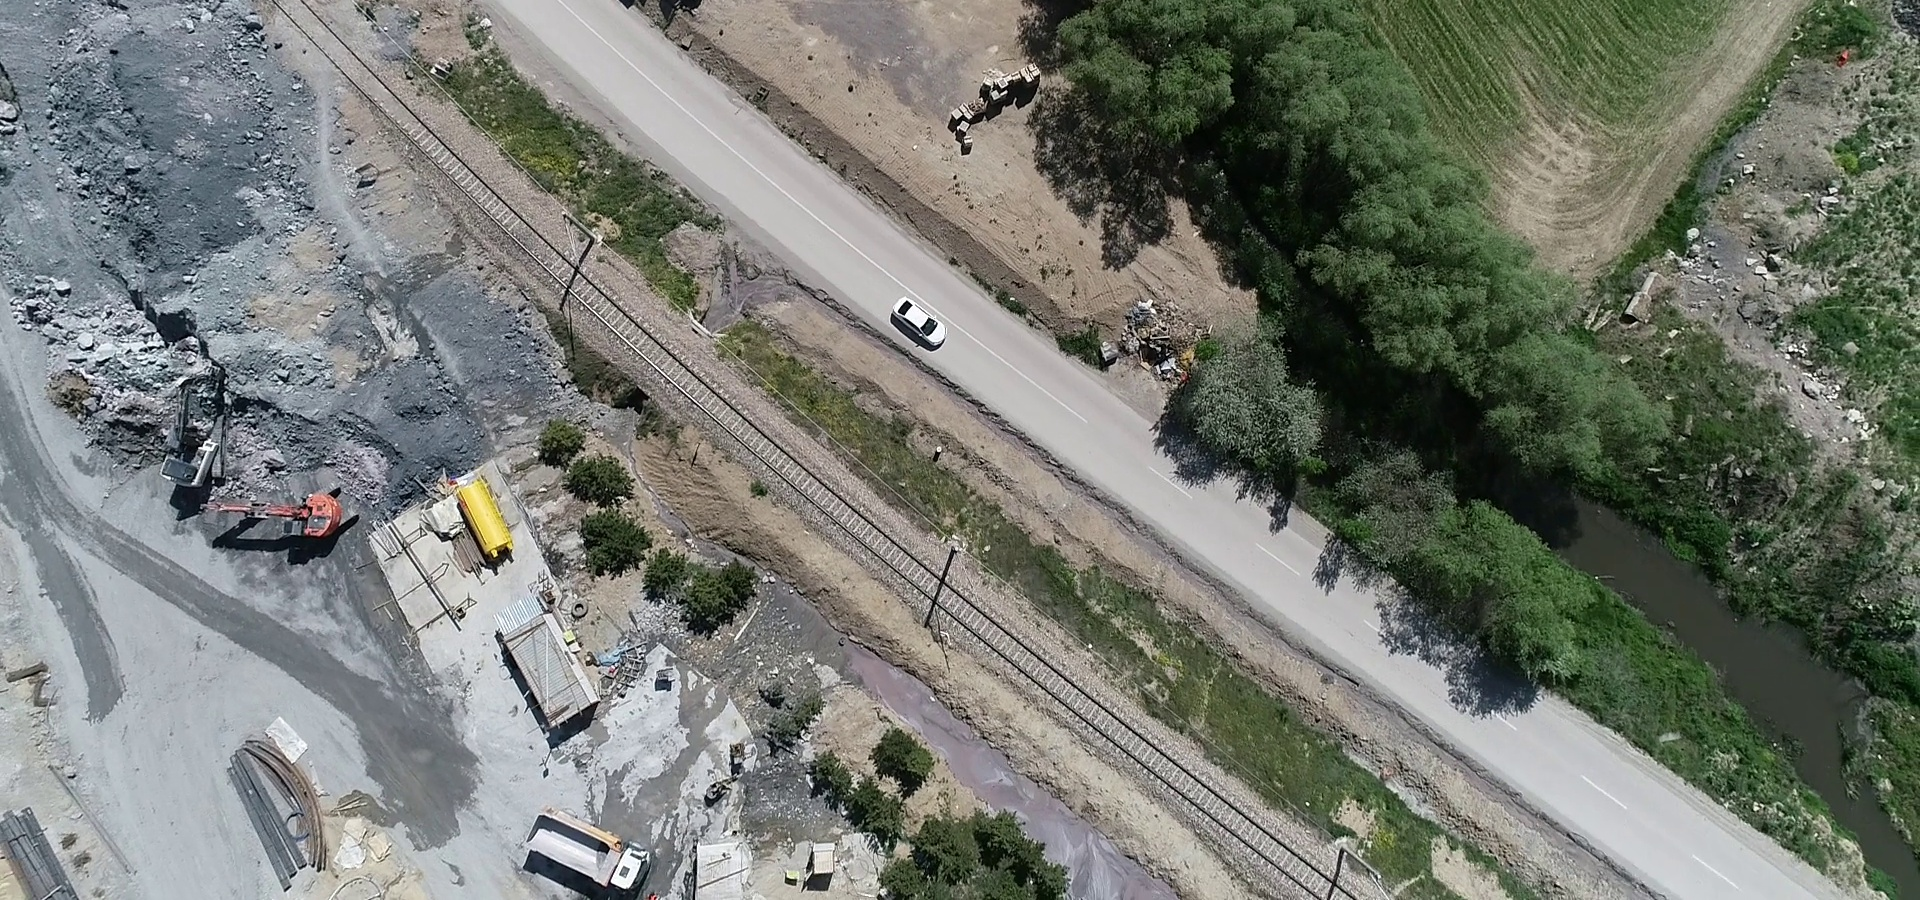araba: (885, 294, 955, 354)
ismakinesi: (158, 362, 255, 501), (193, 487, 348, 556)
kamyon: (518, 804, 651, 900)
